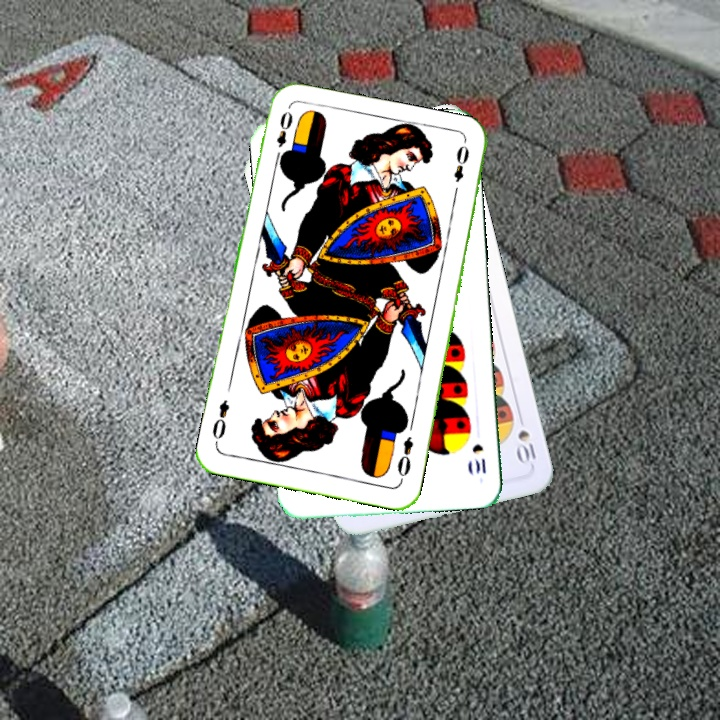EO: (271, 107, 296, 164), (393, 432, 416, 484)
S10: (512, 409, 539, 468), (468, 440, 488, 476)
